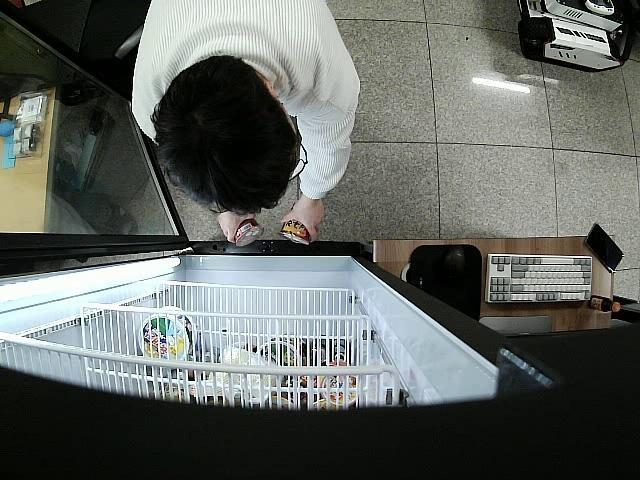06_nuguri_S: (280, 218, 314, 248), (232, 220, 262, 249)
